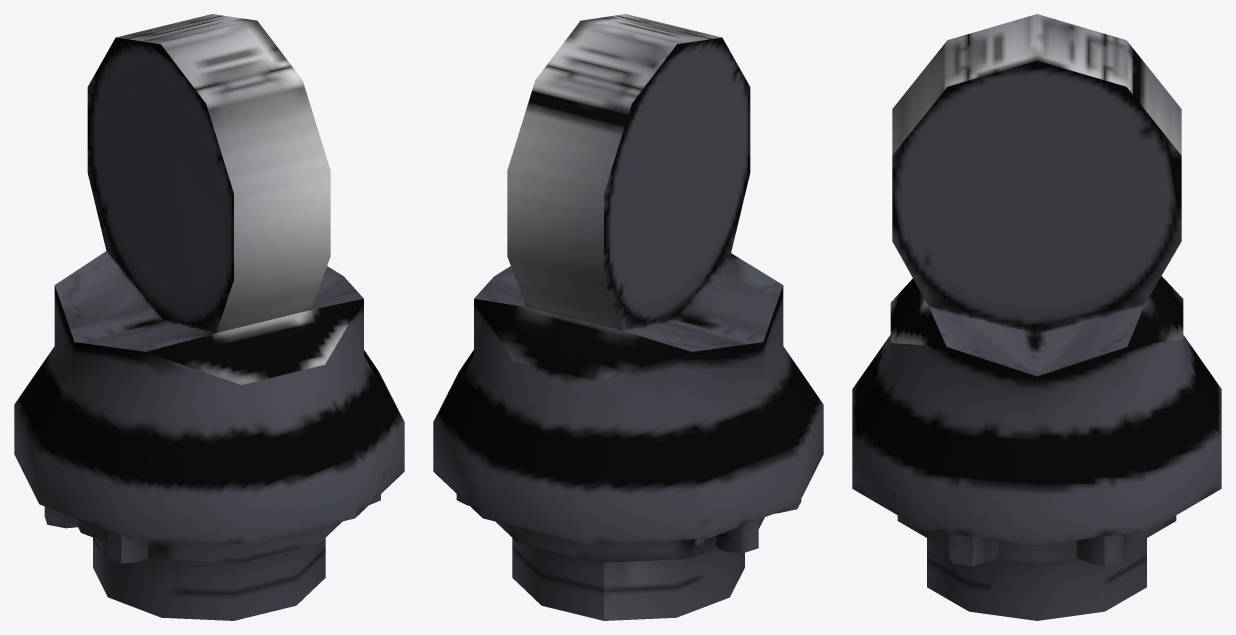
File: r_hand.obj
The picture shows the model from 3 angles, left to right: view 1: azimuth 30°, elevation 25°; view 2: azimuth 150°, elevation 25°; view 3: azimuth 270°, elevation 25°; orthographic projection.
Visible parts, largest first — view 1: r_hand; view 2: r_hand; view 3: r_hand.
Boxes of the visible parts, x1,y1,x2,y2 form: r_hand: (14,14,404,620); r_hand: (433,14,823,620); r_hand: (852,14,1221,620).
Bounding box in the file's own units: 0.1021 × 0.1551 × 0.0971.
